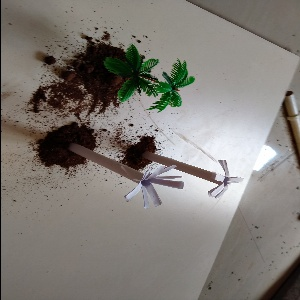plant: (100, 43, 209, 110)
weed: (92, 138, 183, 215), (170, 147, 249, 205)
